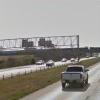Car: (53, 60, 89, 89)
